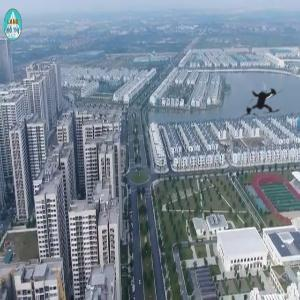drone: (228, 69, 299, 140)
